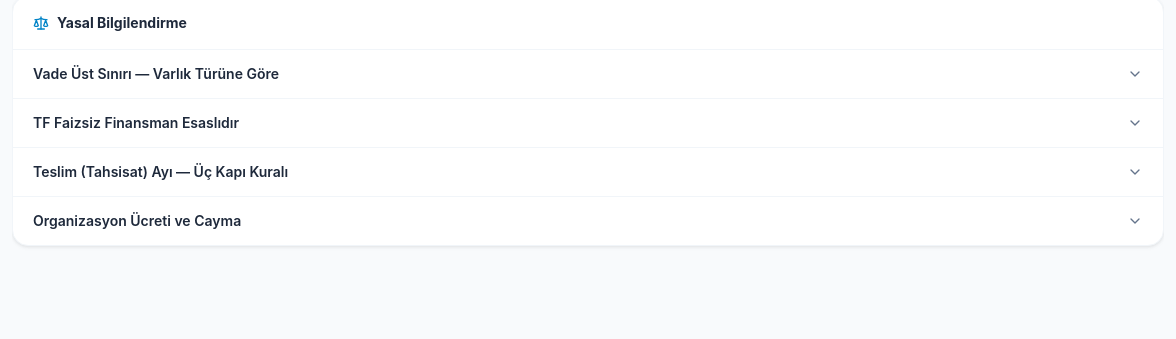
Scenario: OptimizerYasalPaneli — BDDK citations › Teslim item cites Yön. m. 21/2-a + m. 21/3
What coordinates should you click on to do the following:
click the button "Teslim (Tahsisat) Ayı — Üç Kapı Kuralı"
I would click on:
 (161, 172)
Its box is [13, 148, 1163, 196].
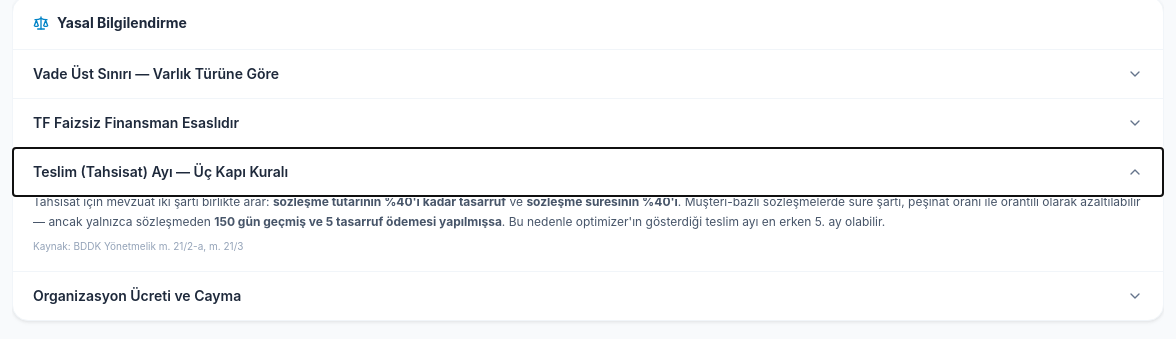
Check: the text "m. 21/2-a" is shown, box [74, 240, 243, 252]
Check: the text "m. 21/3" is shown, box [74, 240, 243, 252]
Check: the text "150 gün geçmiş ve 5 tasarruf ödemesi yapılmışsa" is shown, box [214, 214, 502, 228]
